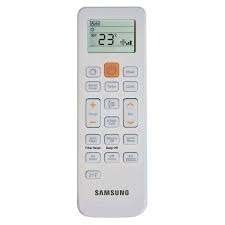remote control: (69, 4, 151, 221)
